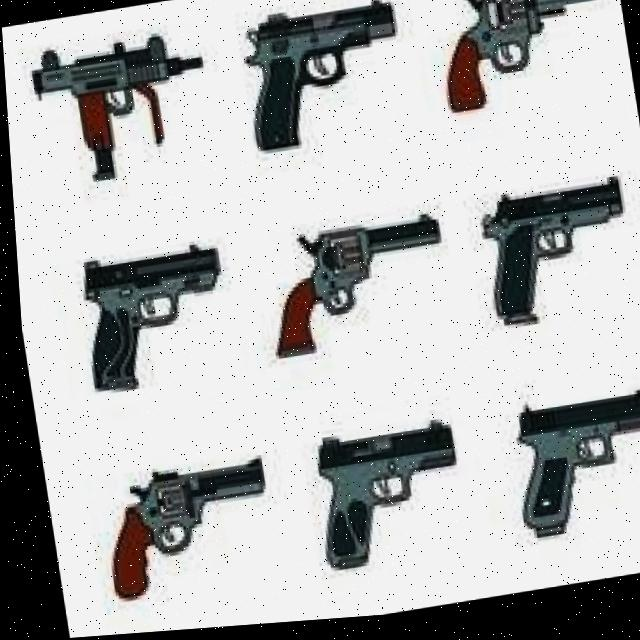firearm: (25, 26, 218, 191)
pistol: (252, 214, 451, 365), (234, 0, 412, 160), (90, 457, 272, 605), (69, 241, 233, 398), (471, 182, 637, 337), (300, 421, 463, 578), (496, 388, 640, 549), (429, 0, 617, 122)
